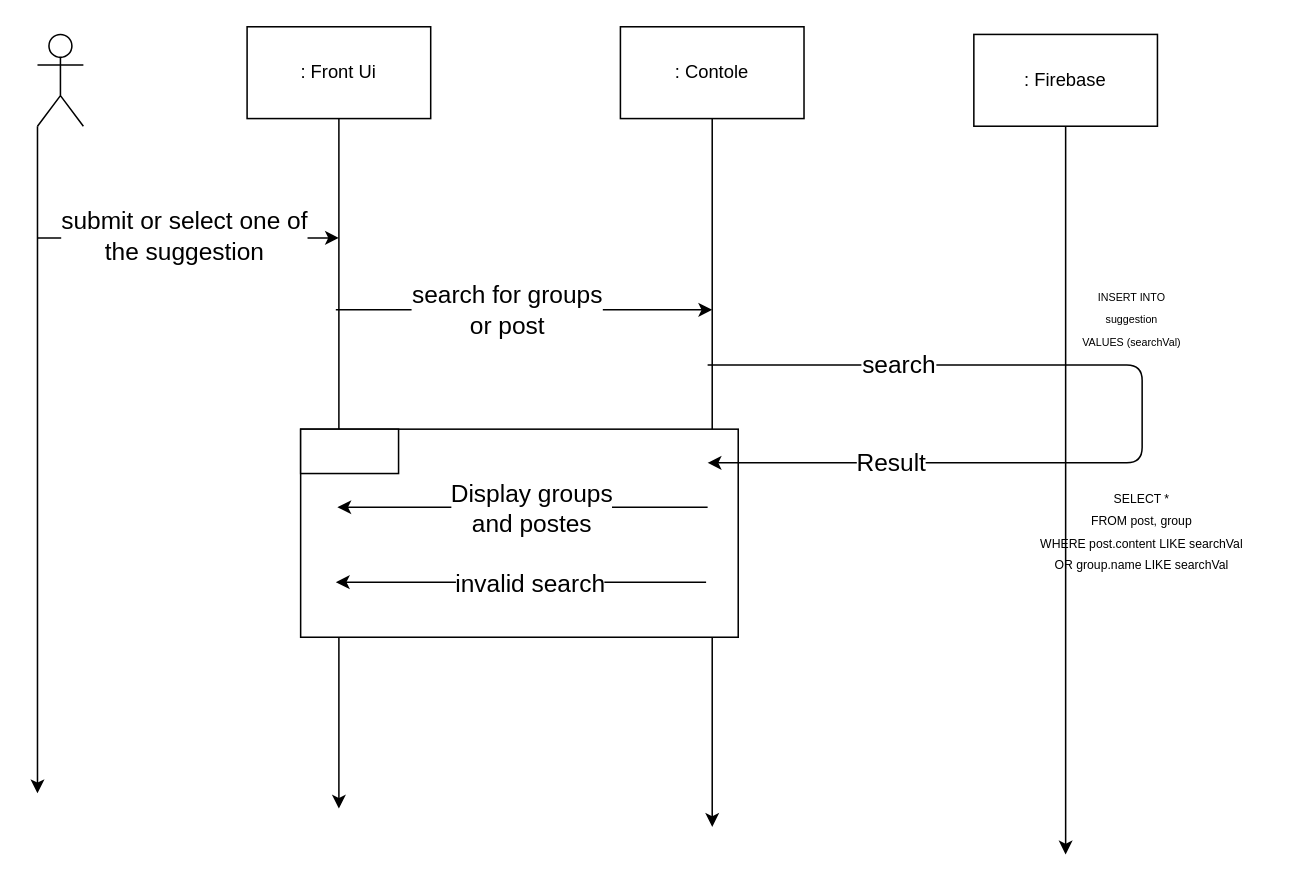
This 1307x894 diagram has some shape labels left out. The shapes that lost their labels are listed below. From the top down, each one's centre as x and y in pixels, then its label:
(x=59, y=79): Actor
(x=349, y=451): ALT
